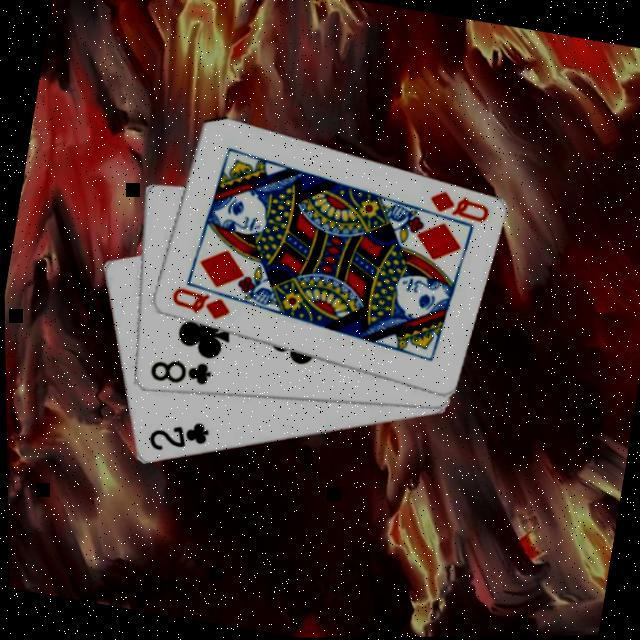2C: (139, 411, 210, 462)
8C: (142, 351, 212, 393)
QD: (163, 283, 233, 326), (421, 186, 491, 228)
